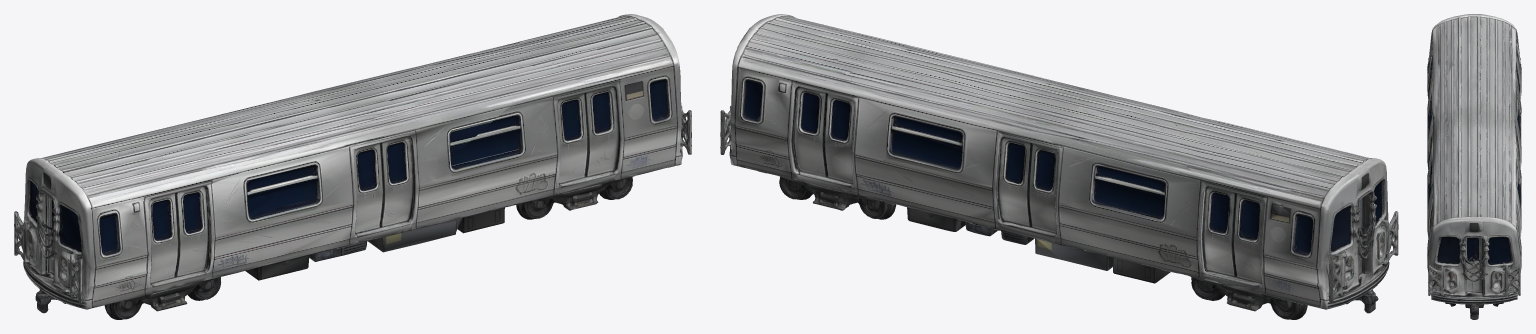
The model's file is train.glb.
The picture shows the model from 3 angles, left to right: view 1: azimuth 30°, elevation 25°; view 2: azimuth 150°, elevation 25°; view 3: azimuth 270°, elevation 25°; orthographic projection. The views are drawn at different scales.
Parts seen in each view (by area): view 1: Mesh_0; view 2: Mesh_0; view 3: Mesh_0.
Boxes of the visible parts, box(x1,y1,x2,y2) form: Mesh_0: box(14, 14, 691, 319); Mesh_0: box(720, 14, 1398, 319); Mesh_0: box(1427, 14, 1521, 319).
Bounding box in the file's own units: 1.91 × 0.437 × 0.3554.
Materials: 1 (1 with a texture image).
